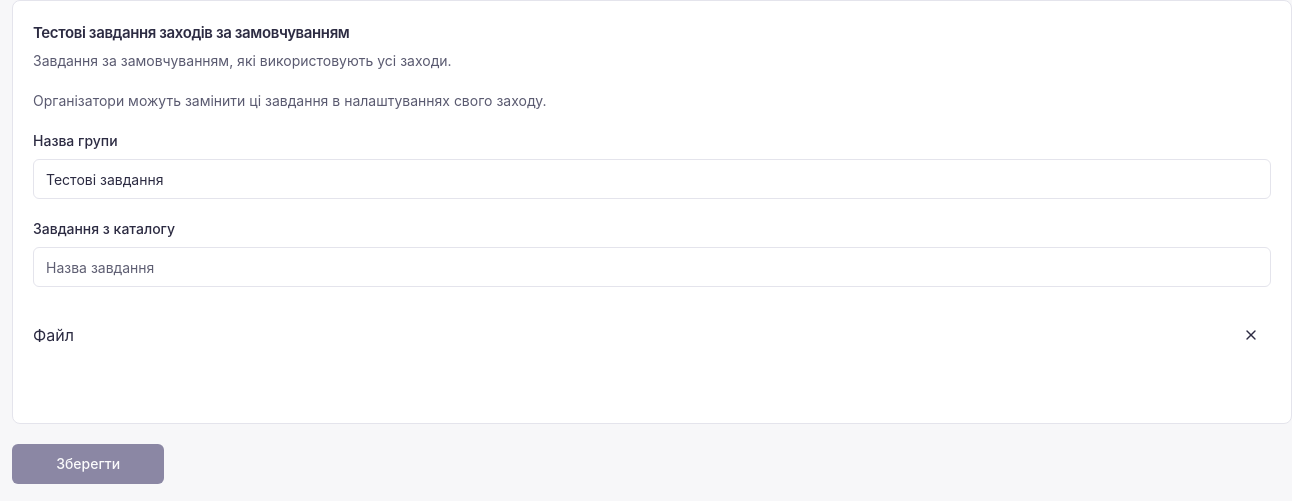
Test: lists tasks that cannot be chosen muted with a reason, after the choosable ones, inside the dropdown
Focus the dropdown: (652, 267) [33,247,1271,287]
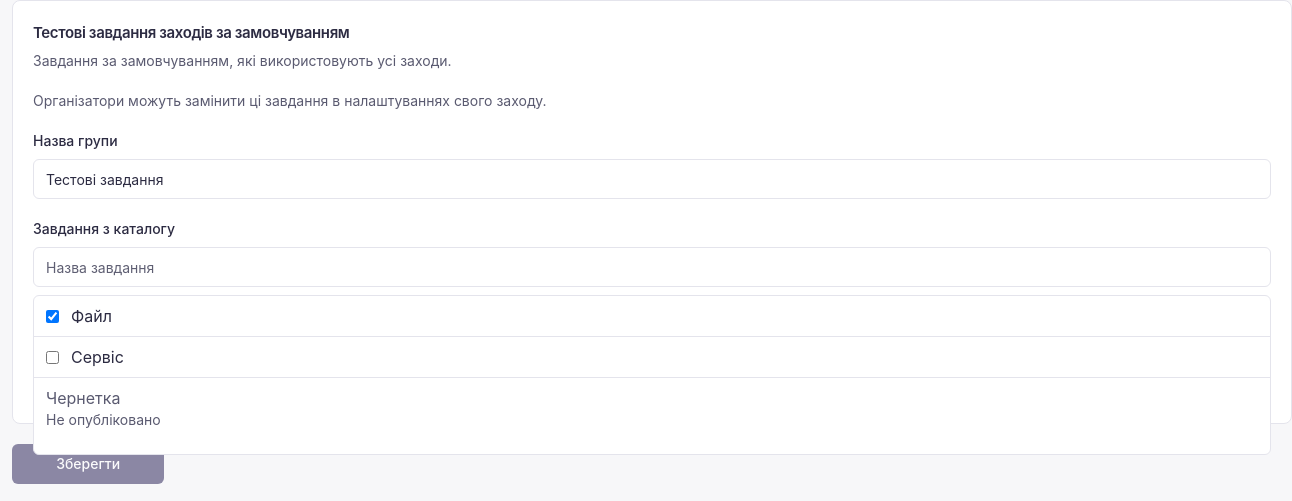
Expected: the list "Файл Сервіс Чернетка Не опубліковано" is shown, [33,295,1271,455]
Expected: the text "Не опубліковано" is shown, [46,411,161,428]
